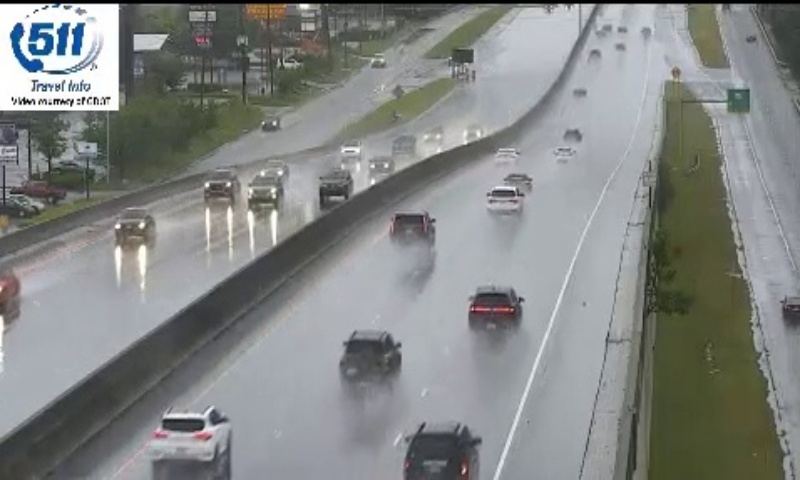car: (148, 405, 232, 462), (403, 422, 482, 480), (339, 331, 401, 386), (468, 287, 522, 327), (388, 211, 433, 245), (485, 184, 522, 211), (502, 175, 532, 194)
